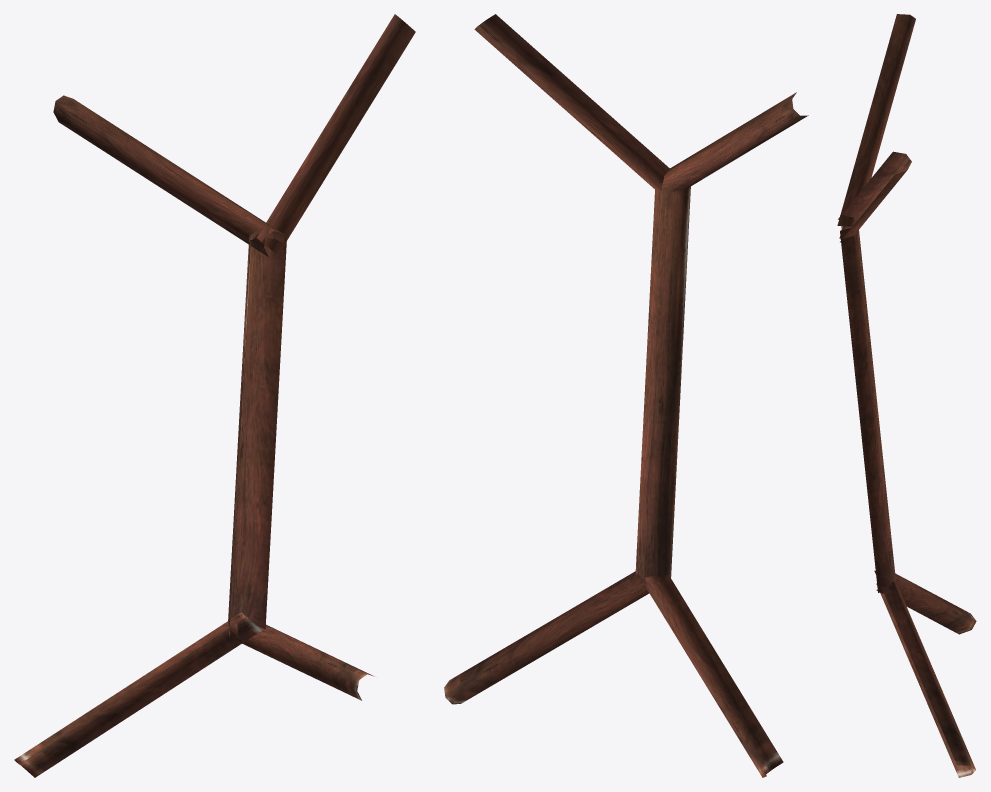
File: nder04.obj
3 views of the same model, side by side, from view 1: azimuth 30°, elevation 25°; view 2: azimuth 150°, elevation 25°; view 3: azimuth 270°, elevation 25° (orthographic). The views are drawn at different scales.
Parts seen in each view (by area): view 1: nder04; view 2: nder04; view 3: nder04.
Boxes of the visible parts, x1=… form: nder04: x1=14, y1=14, x2=415, y2=777; nder04: x1=444, y1=14, x2=808, y2=777; nder04: x1=837, y1=14, x2=976, y2=777.
Bounding box in the file's own units: 163 × 305 × 61.49.
